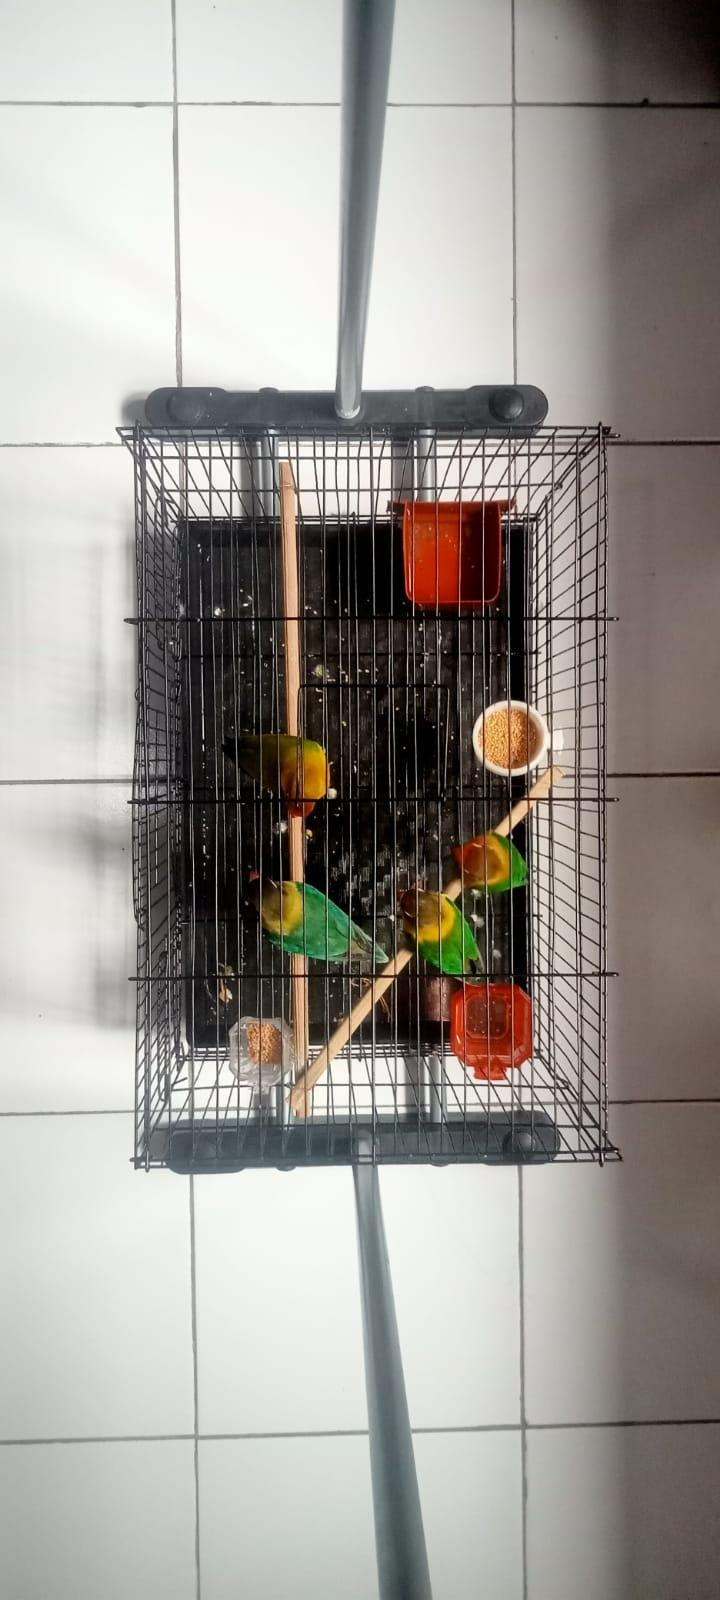LoveBird: (246, 871, 390, 963), (218, 734, 331, 816), (395, 889, 486, 986), (449, 832, 533, 893)
